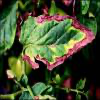Tomato leaf bacterial spot: (18, 9, 96, 72)
